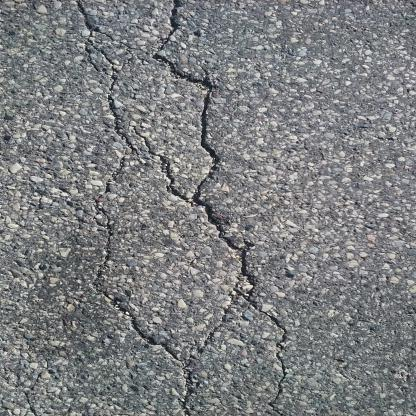Cracks: (68, 0, 296, 415)
